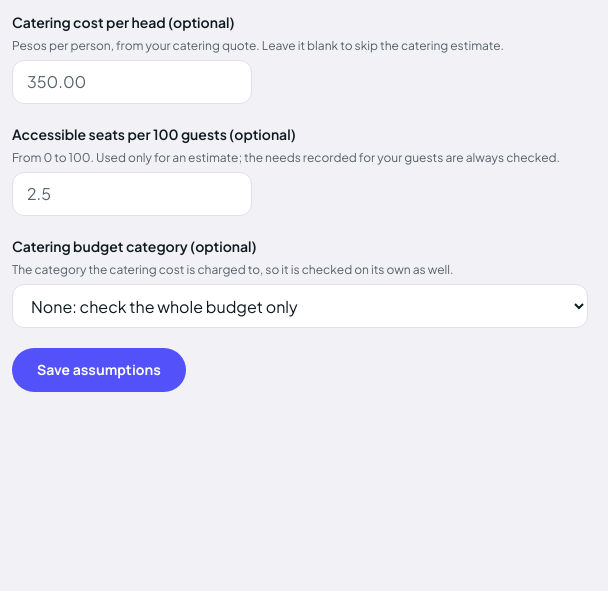
the assumptions form › lists every server error at once, focuses the summary and keeps what was typed
Click the button "Save assumptions" at (99, 370), box [12,348,186,392]
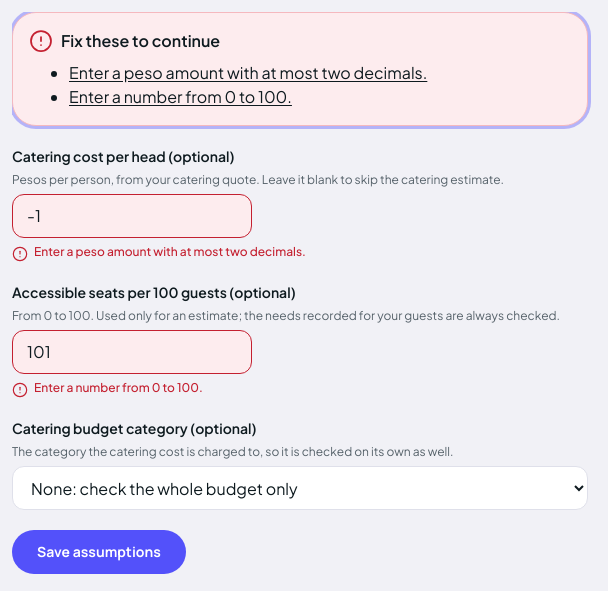
Result: the element "Fix these to continue" shows "Enter a peso amount with at most two decimals." at [69,62,427,83]
Result: the element "Fix these to continue" shows "Enter a number from 0 to 100." at [69,86,292,107]
Result: the field labelled "Catering cost per head (optional)" holds "-1" at [12,194,252,238]
